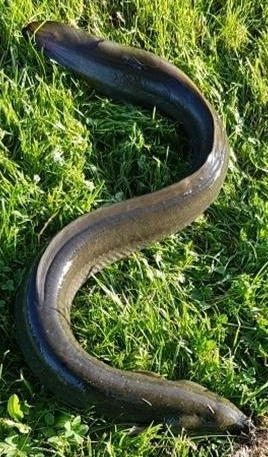Anguilla anguilla: (20, 20, 248, 437)
